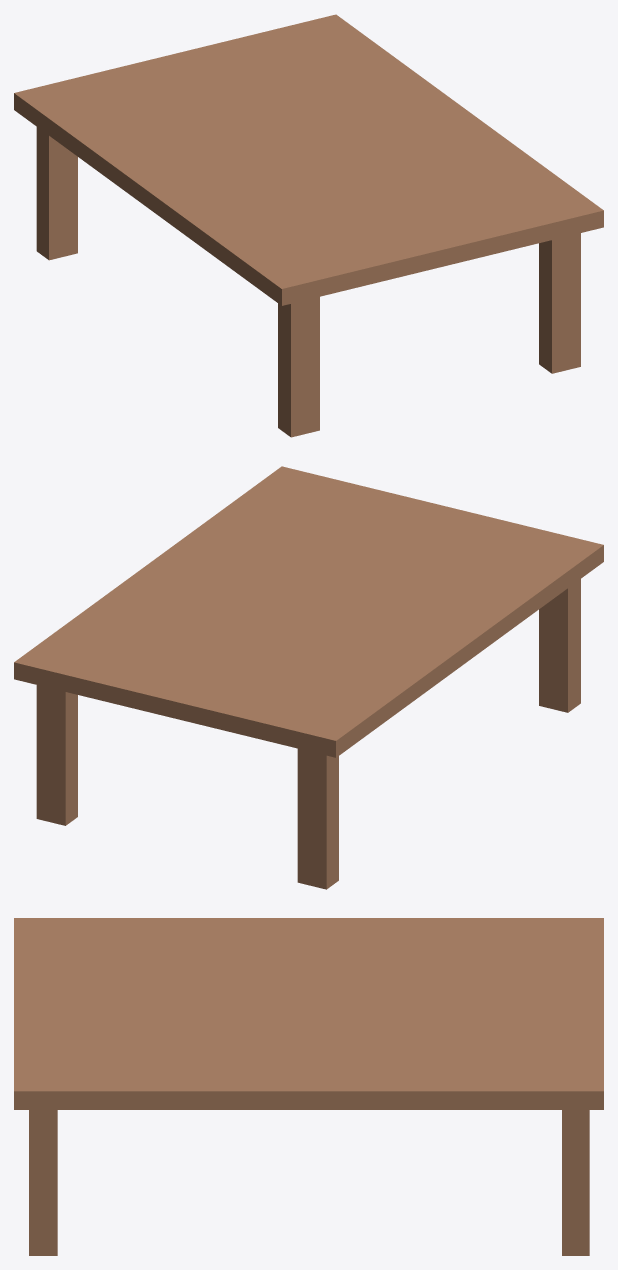
The model's file is Meja.fbx.
3 views of the same model, one above another, from view 1: azimuth 30°, elevation 25°; view 2: azimuth 150°, elevation 25°; view 3: azimuth 270°, elevation 25° (orthographic). The views are drawn at different scales.
Visible parts, largest first — view 1: Meja; view 2: Meja; view 3: Meja.
Boxes of the visible parts, x1,y1,x2,y2 form: Meja: [14, 14, 603, 437]; Meja: [14, 466, 603, 889]; Meja: [14, 918, 603, 1255].
Size of the model in its own units: 300 by 140 by 432.
